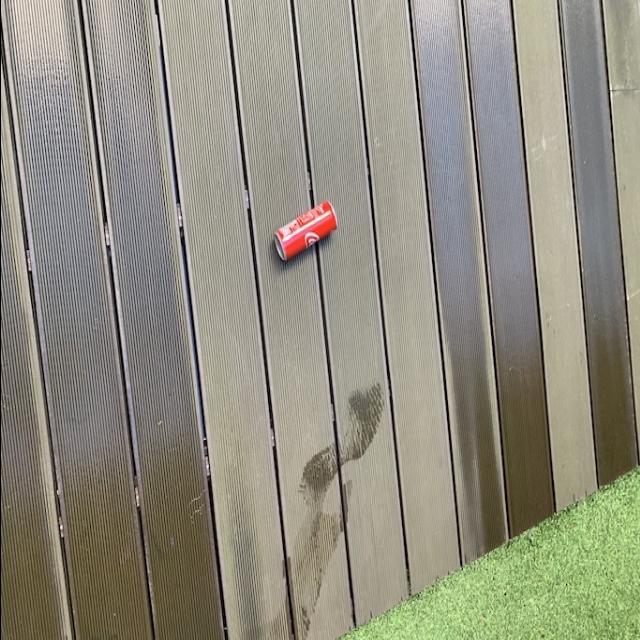Aluminum Can: (268, 195, 343, 267)
